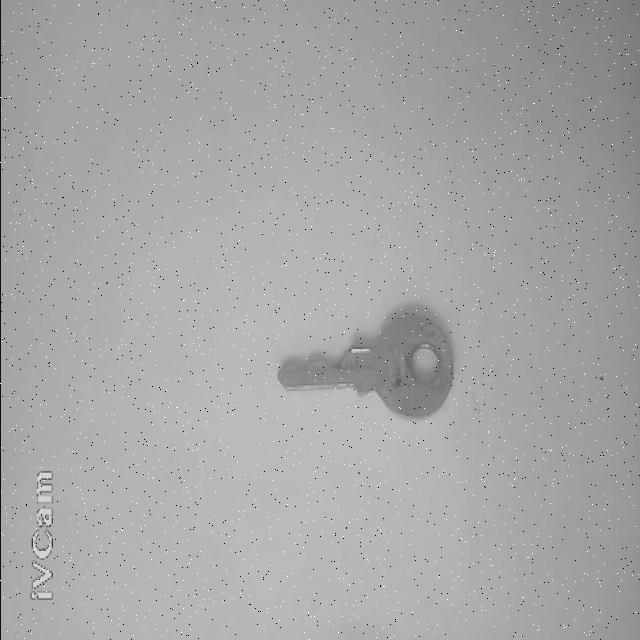key: (277, 315, 451, 416)
